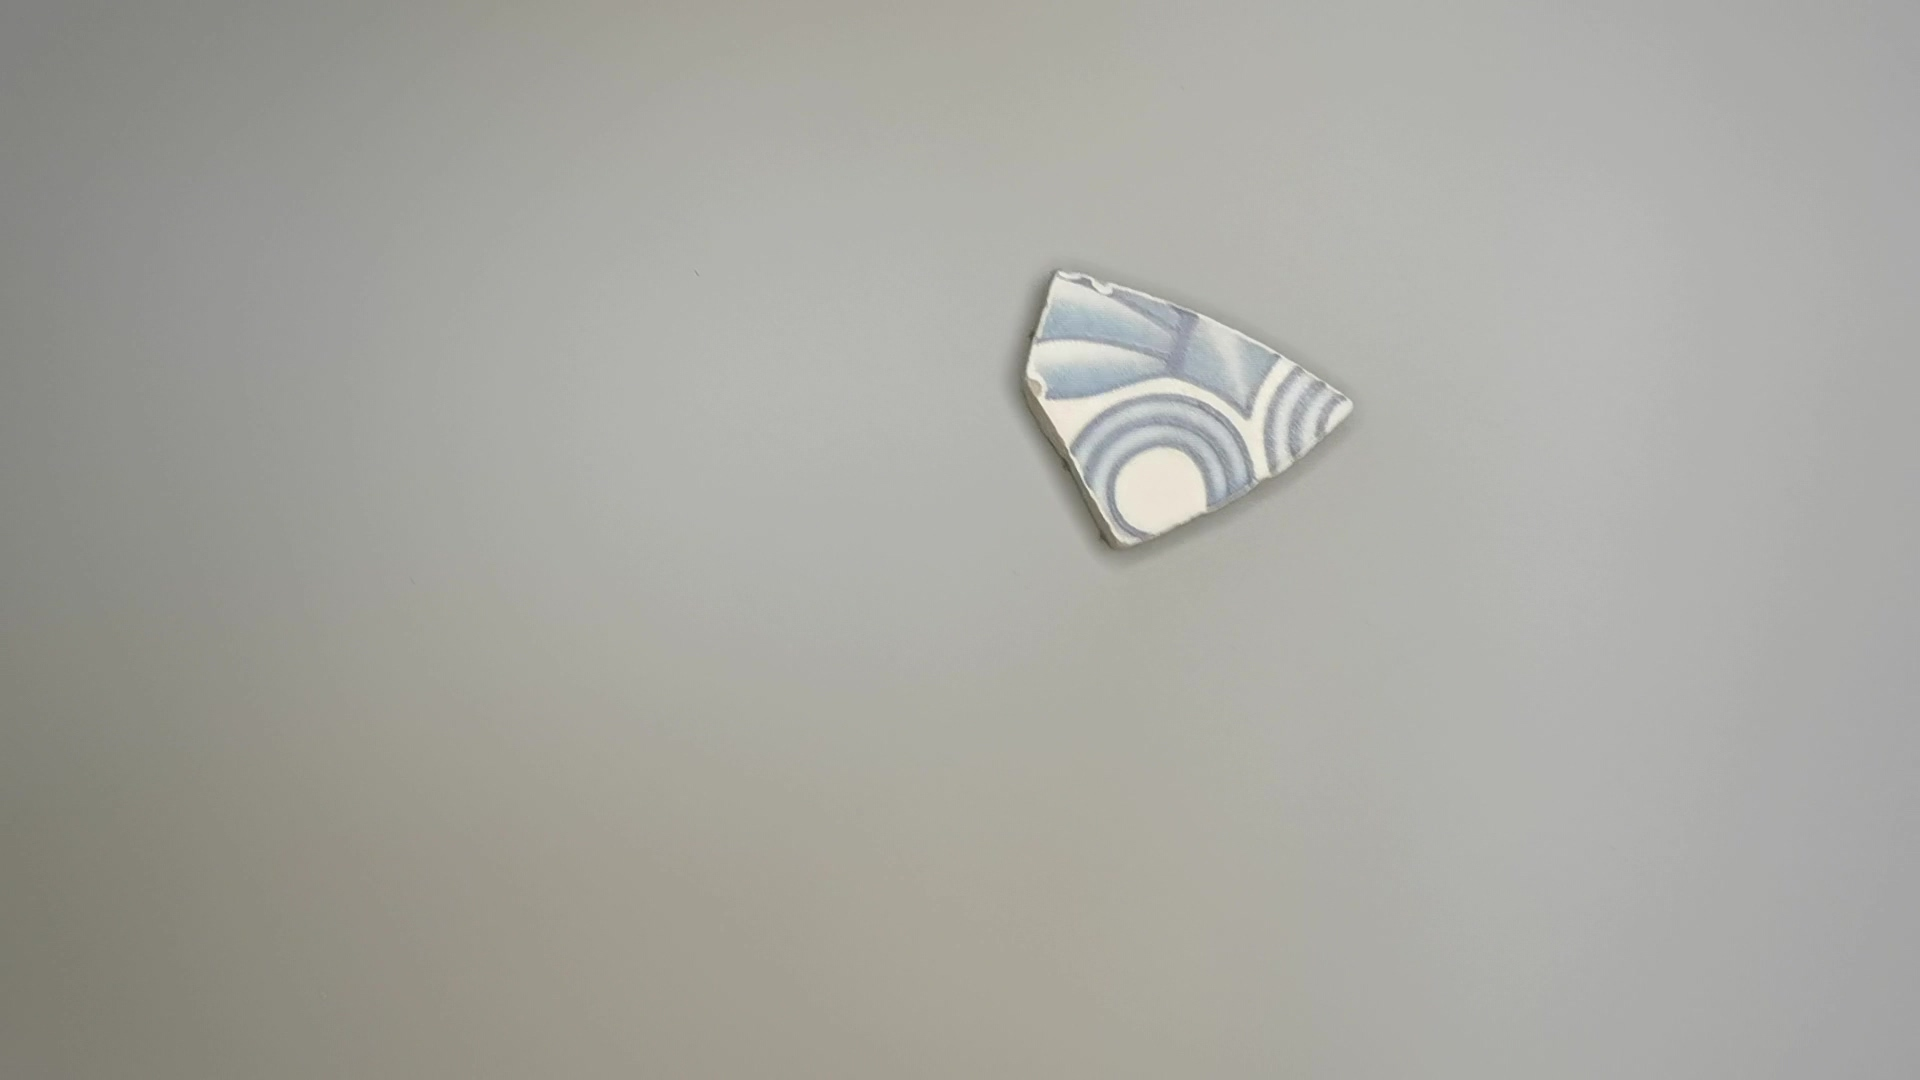ceramic: (1019, 262, 1362, 563)
